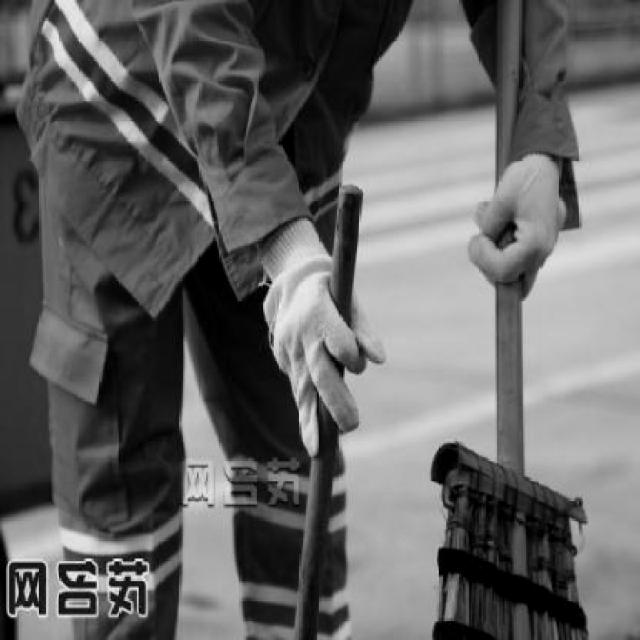hand_glove: (268, 262, 388, 456), (466, 158, 566, 298)
